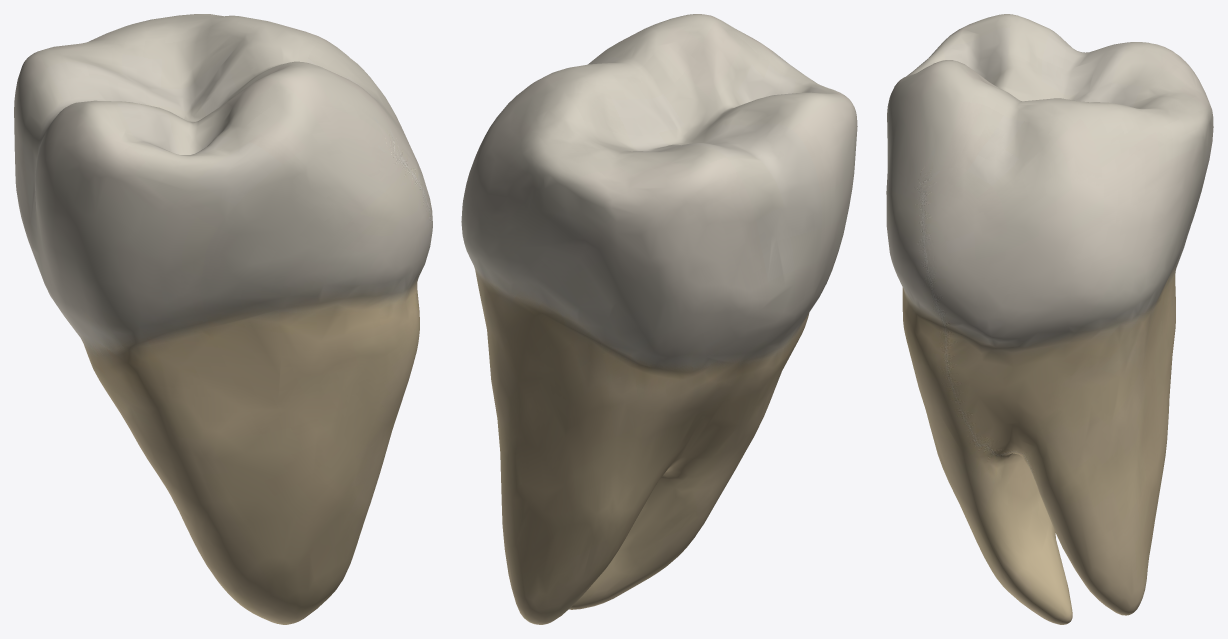
Rendered from mandibular_third_molar.glb.
3 views of the same model, side by side, from view 1: azimuth 30°, elevation 25°; view 2: azimuth 150°, elevation 25°; view 3: azimuth 270°, elevation 25° (orthographic). The views are drawn at different scales.
Visible parts, largest first — view 1: Object_2; view 2: Object_2; view 3: Object_2.
Boxes of the visible parts, x1,y1,x2,y2 form: Object_2: (14, 14, 432, 624); Object_2: (461, 14, 857, 624); Object_2: (886, 14, 1213, 624).
Bounding box in the file's own units: 0.9722 × 1.53 × 0.8584.
1 material, 1 textured.
